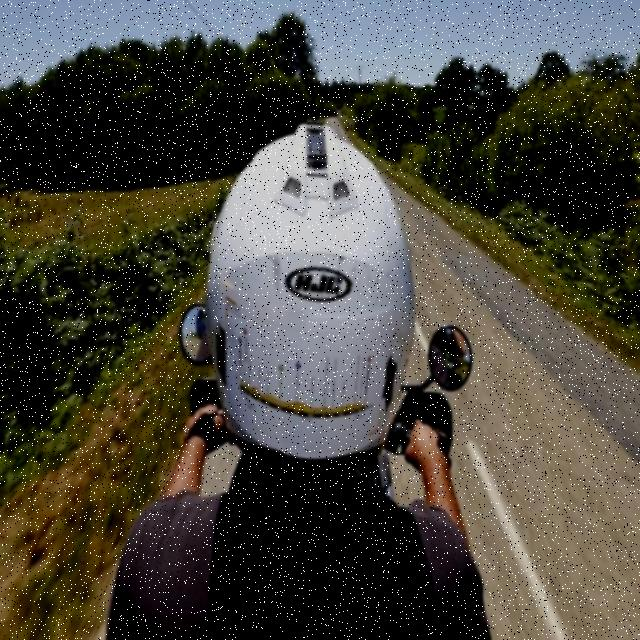with-helmet: (202, 120, 420, 476)
